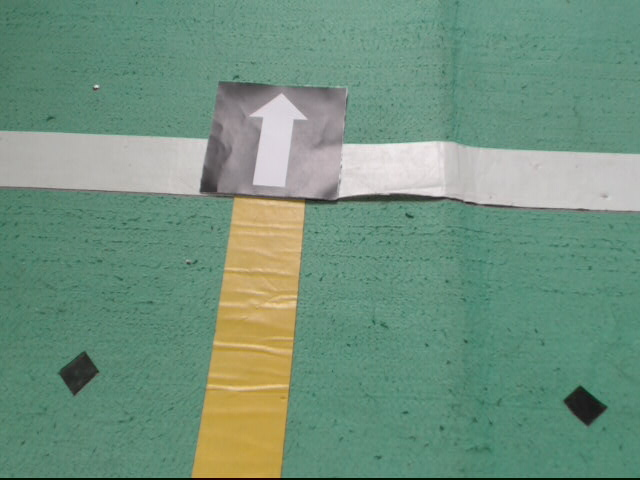straight: (199, 80, 343, 201)
